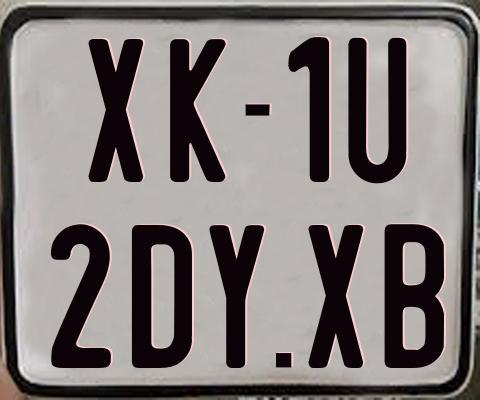1: (288, 34, 332, 181)
2: (51, 222, 117, 370)
B: (384, 221, 449, 365)
D: (130, 225, 193, 370)
K: (167, 38, 223, 183)
U: (348, 35, 412, 183)
X: (307, 222, 367, 368), (86, 38, 142, 181)
Y: (207, 224, 263, 370)
